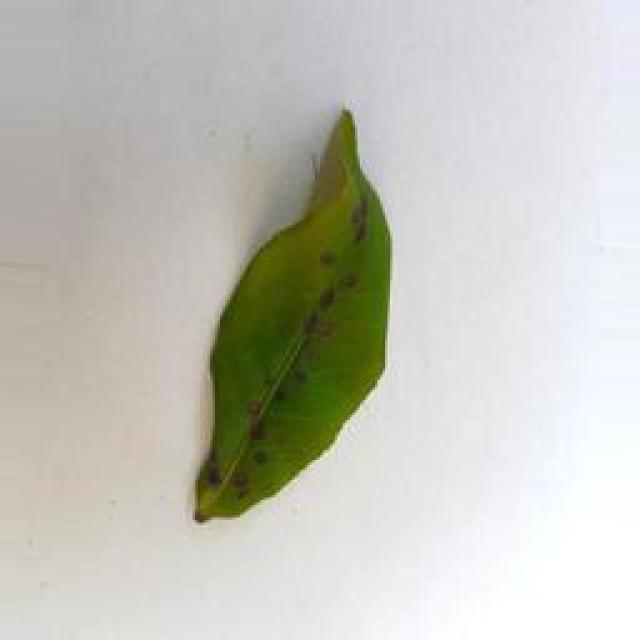Helopeltis: (187, 112, 393, 531)
